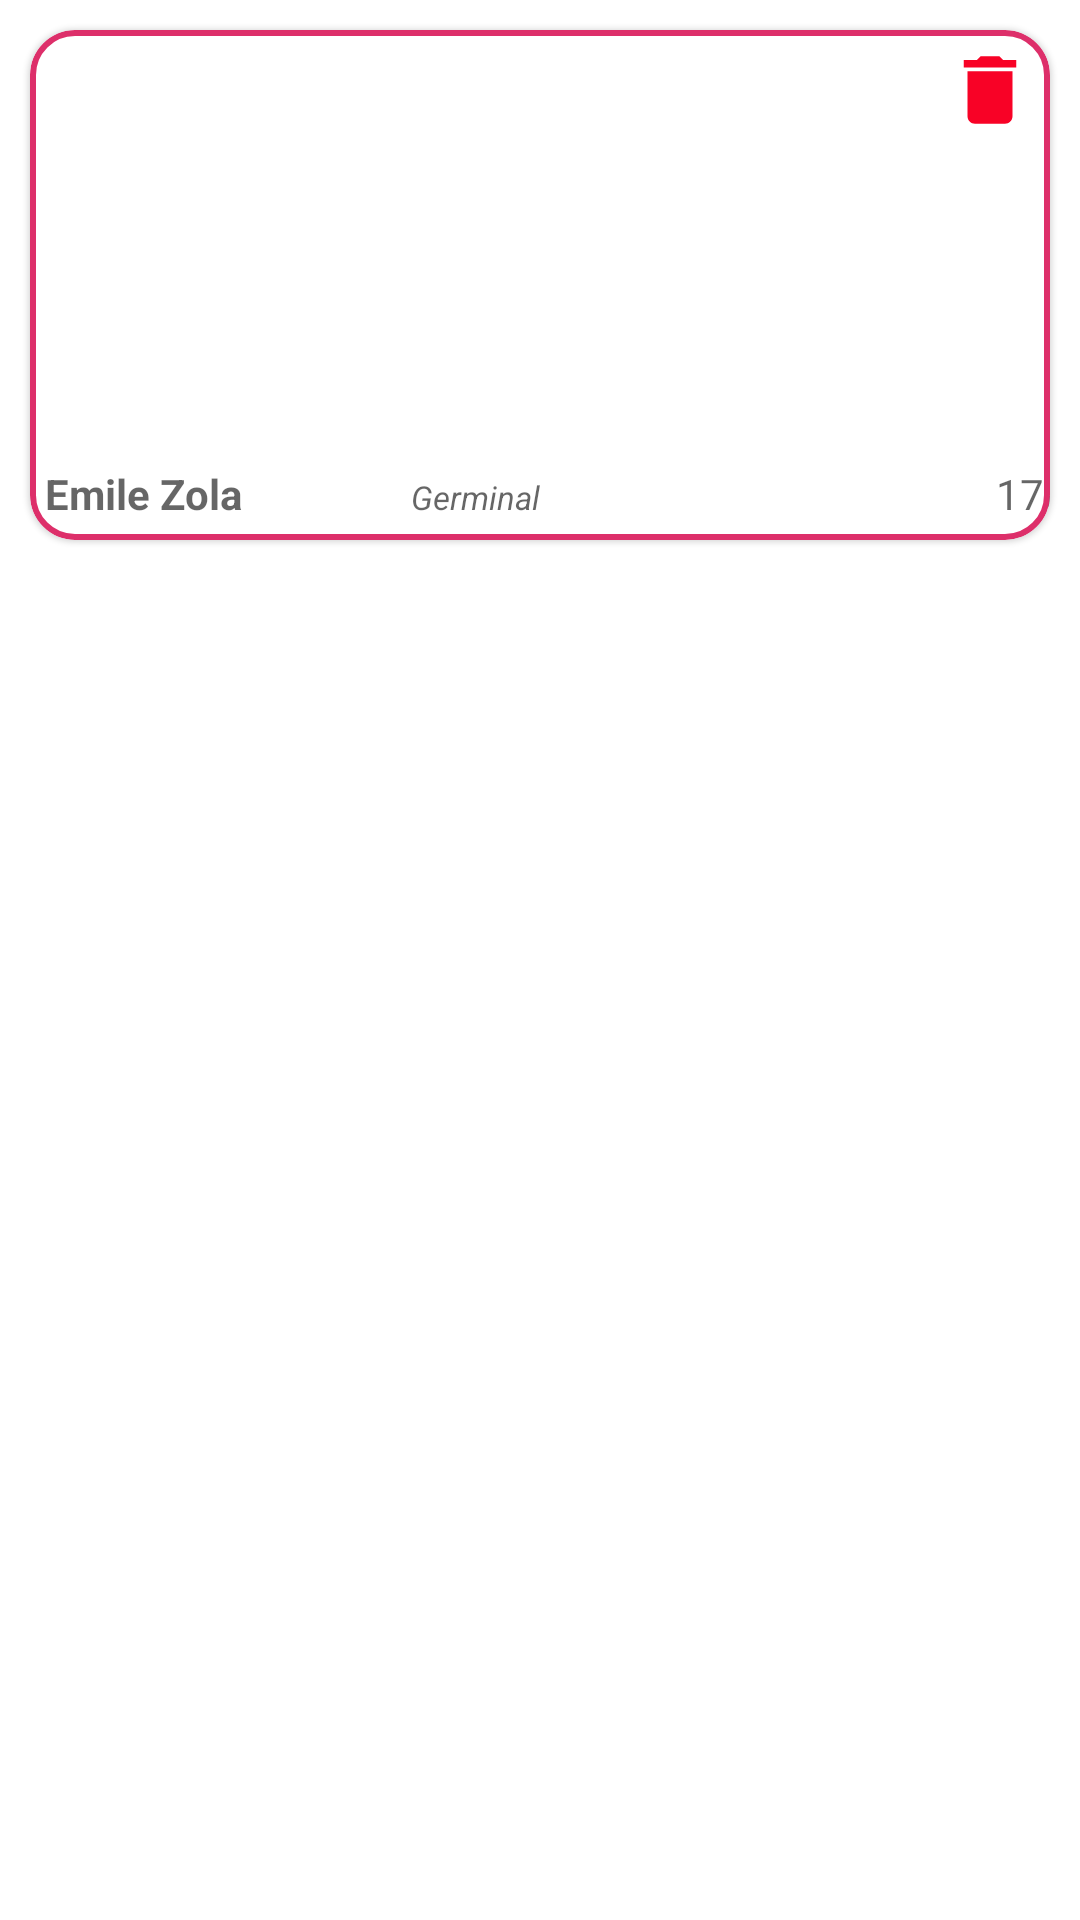

Locate icon controls on the screen. Image size 1080w x 1920h, boxes as (x1, y1, x2, y2).
delete: (963, 56, 1017, 124)
